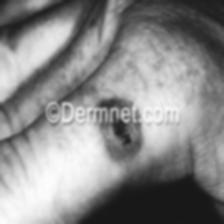Toxin: (97, 100, 143, 155)
